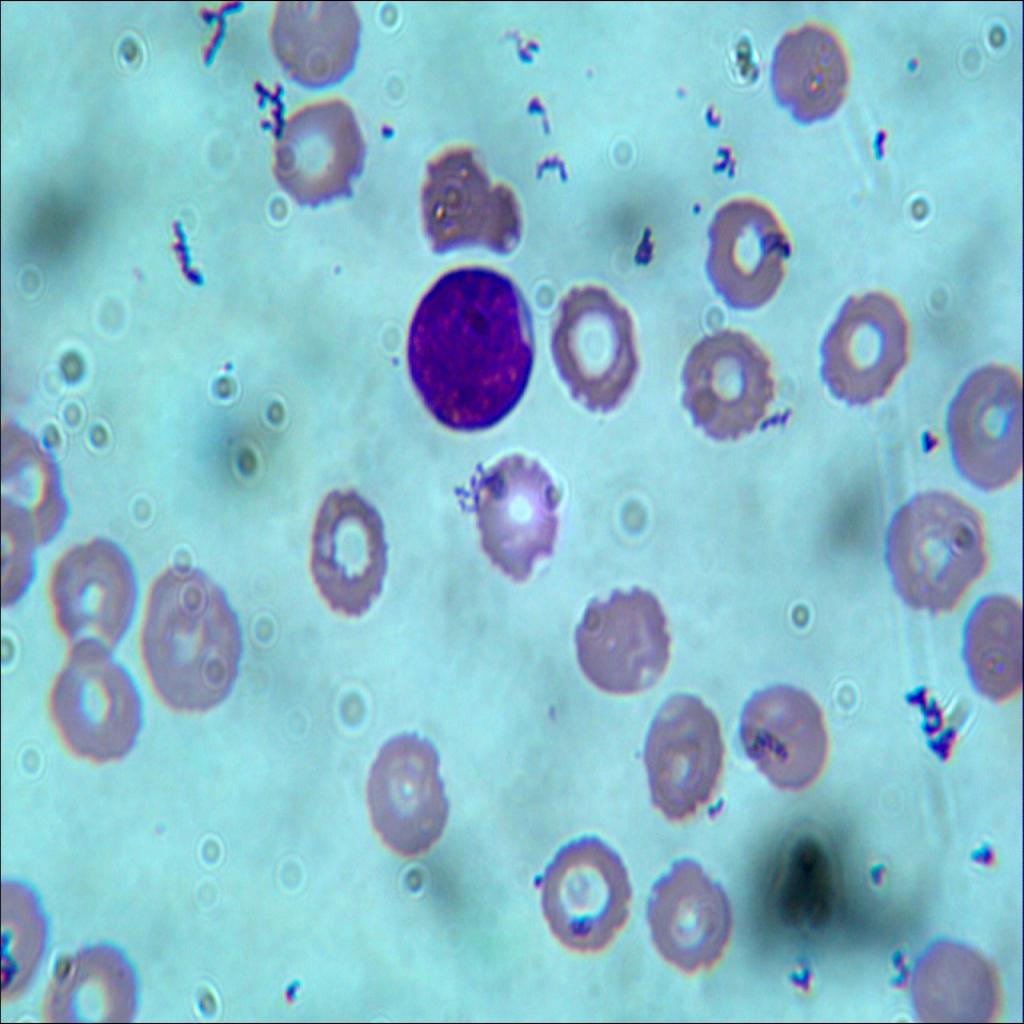Eritrosit: (135, 561, 241, 708), (539, 268, 636, 415), (876, 489, 984, 612), (296, 477, 393, 608), (638, 691, 736, 820), (679, 322, 776, 451), (466, 452, 560, 580), (264, 89, 363, 210), (536, 828, 626, 957), (414, 142, 514, 258), (904, 924, 1018, 1023), (369, 727, 453, 861), (570, 577, 666, 694), (50, 632, 138, 758), (256, 0, 378, 89), (638, 854, 732, 968), (51, 535, 139, 654), (758, 21, 856, 127), (750, 687, 838, 802), (942, 361, 1023, 484), (701, 197, 790, 301), (36, 934, 138, 1023), (824, 290, 910, 395), (0, 429, 74, 547), (958, 575, 1023, 702)
Limfoblast: (400, 250, 538, 442)
Platelet: (575, 50, 609, 98), (270, 968, 306, 1007), (911, 417, 942, 462), (898, 37, 930, 79), (321, 251, 356, 288), (664, 70, 698, 104), (968, 836, 998, 870), (858, 861, 894, 887), (218, 348, 242, 382), (533, 855, 553, 894), (686, 194, 709, 222), (383, 351, 406, 372), (375, 118, 396, 136)
